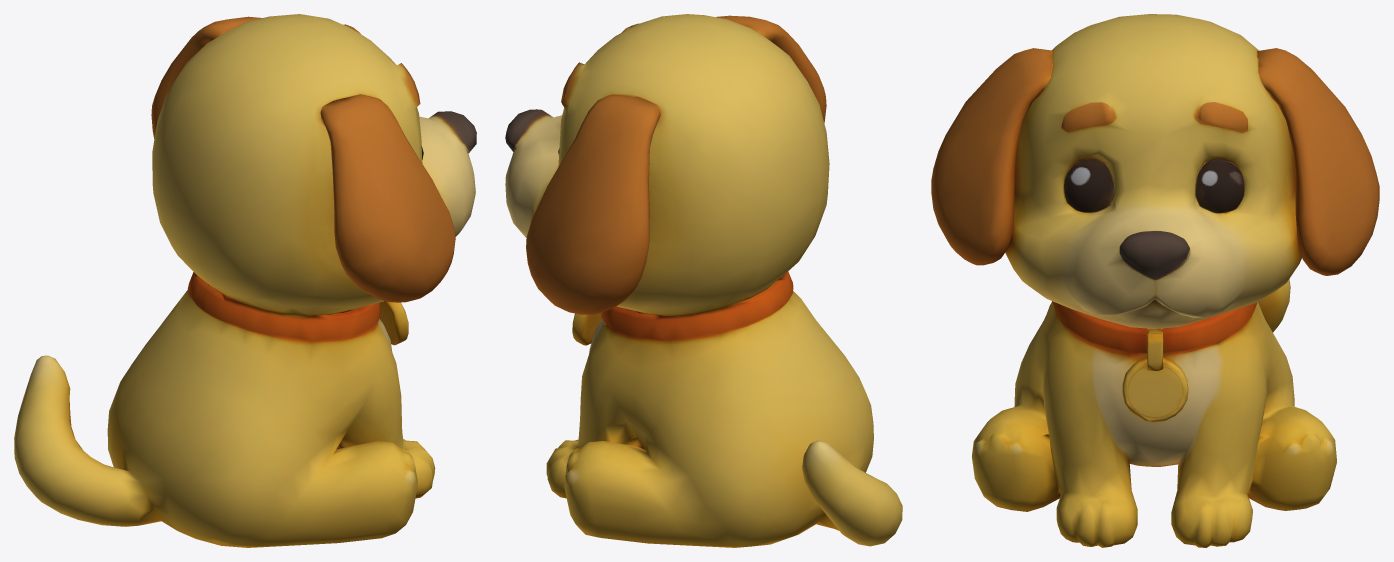
File: dog-chibi.glb
3 renders of one model, left to right at view 1: azimuth 30°, elevation 25°; view 2: azimuth 150°, elevation 25°; view 3: azimuth 270°, elevation 25°, orthographic. The views are drawn at different scales.
Visible parts, largest first — view 1: tripo_node_0d6c34fb-ed7c-4637-b35c-c1fe1f665243; view 2: tripo_node_0d6c34fb-ed7c-4637-b35c-c1fe1f665243; view 3: tripo_node_0d6c34fb-ed7c-4637-b35c-c1fe1f665243.
Boxes of the visible parts, <box> form: tripo_node_0d6c34fb-ed7c-4637-b35c-c1fe1f665243: <box>14,14,476,547</box>; tripo_node_0d6c34fb-ed7c-4637-b35c-c1fe1f665243: <box>505,14,902,547</box>; tripo_node_0d6c34fb-ed7c-4637-b35c-c1fe1f665243: <box>931,14,1379,547</box>.
Bounding box in the file's own units: 0.9551 × 0.998 × 0.8652.
Materials: 1 (1 with a texture image).
